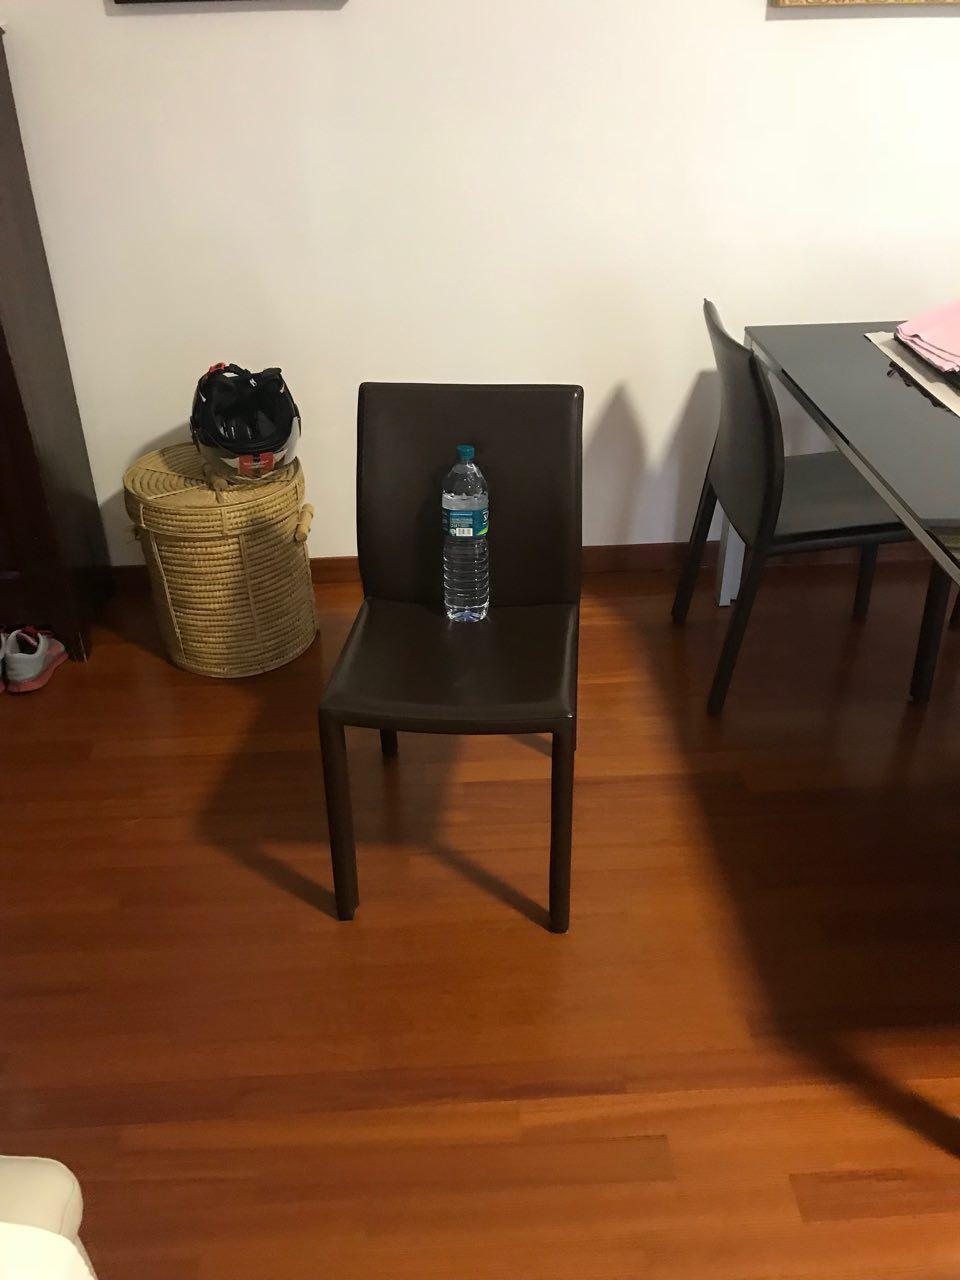san_bernardo: (441, 444, 490, 623)
